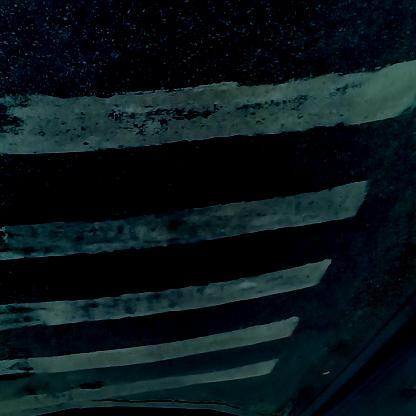crosswalk: (7, 17, 360, 374)
